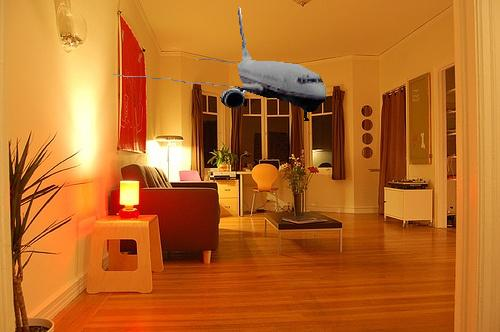tampered: (114, 8, 326, 121)
